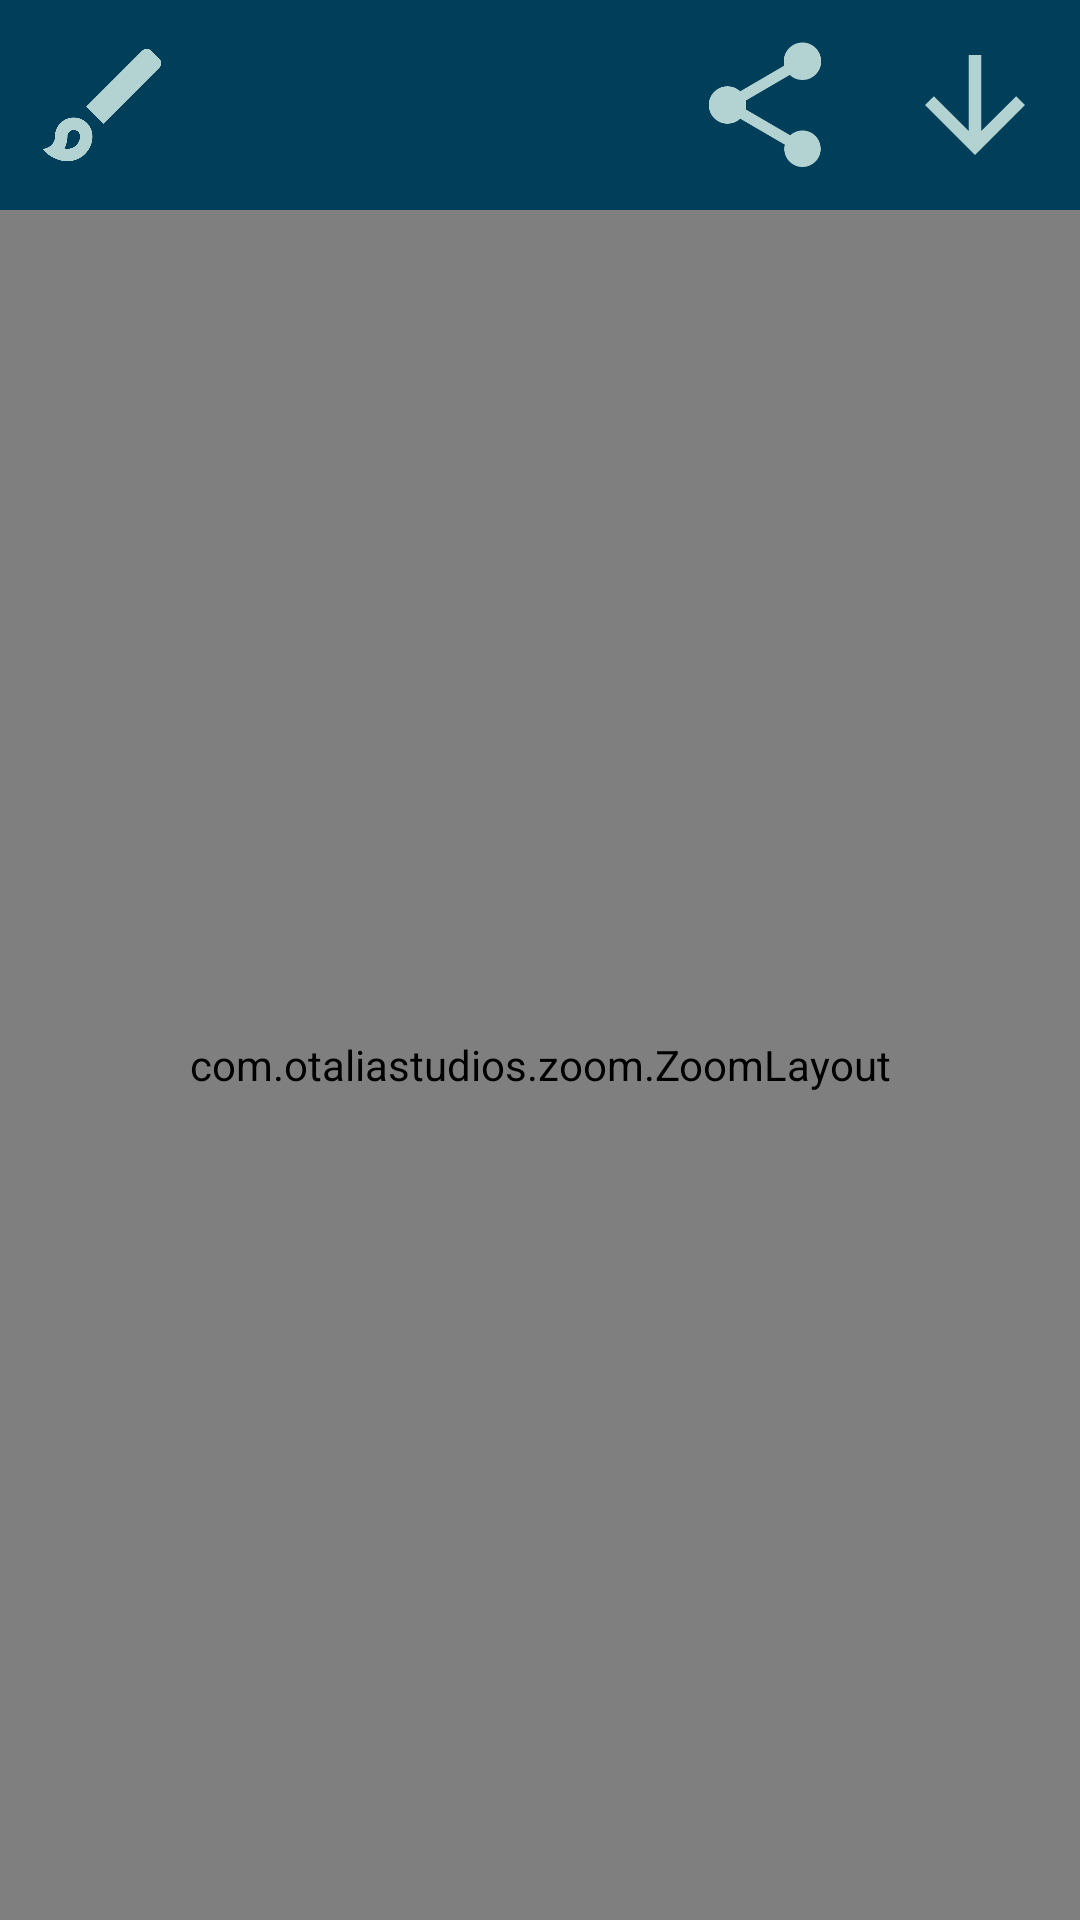

Screen size 1080×1920. Icon name, then its center in pixels as point (x, y):
arrow downward: point (975, 105)
brush: point (102, 105)
share: point (765, 104)
